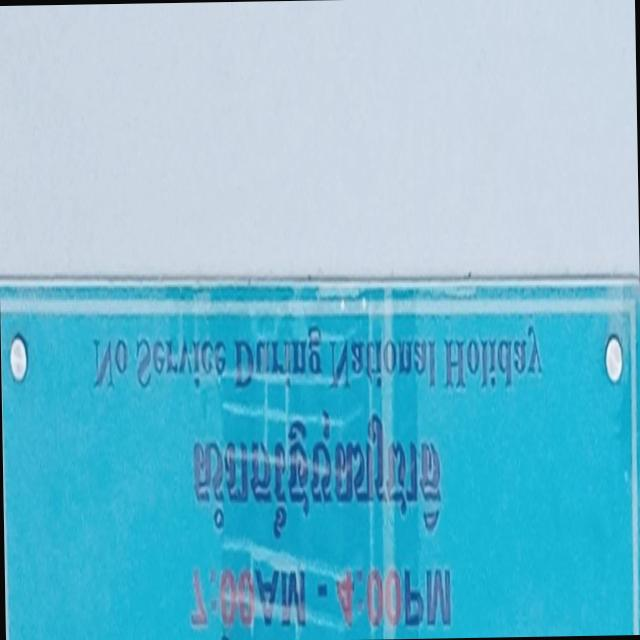Yolov11kh: (176, 401, 458, 553)
